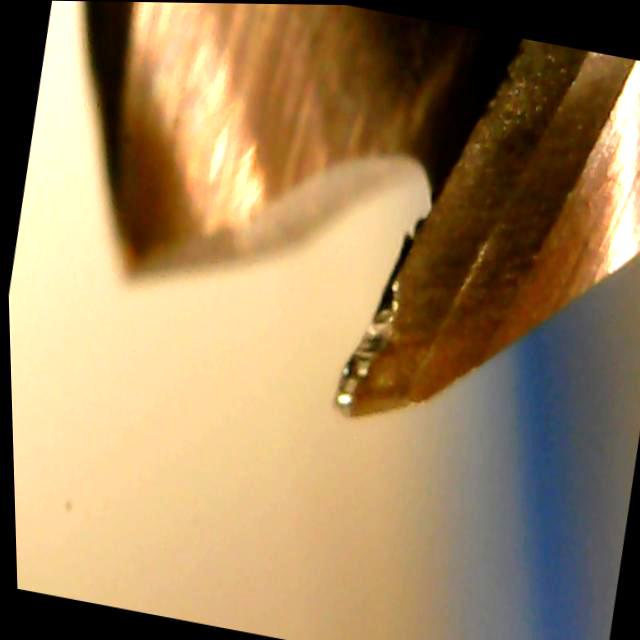Tool-wear-class-1: (292, 142, 554, 456)
